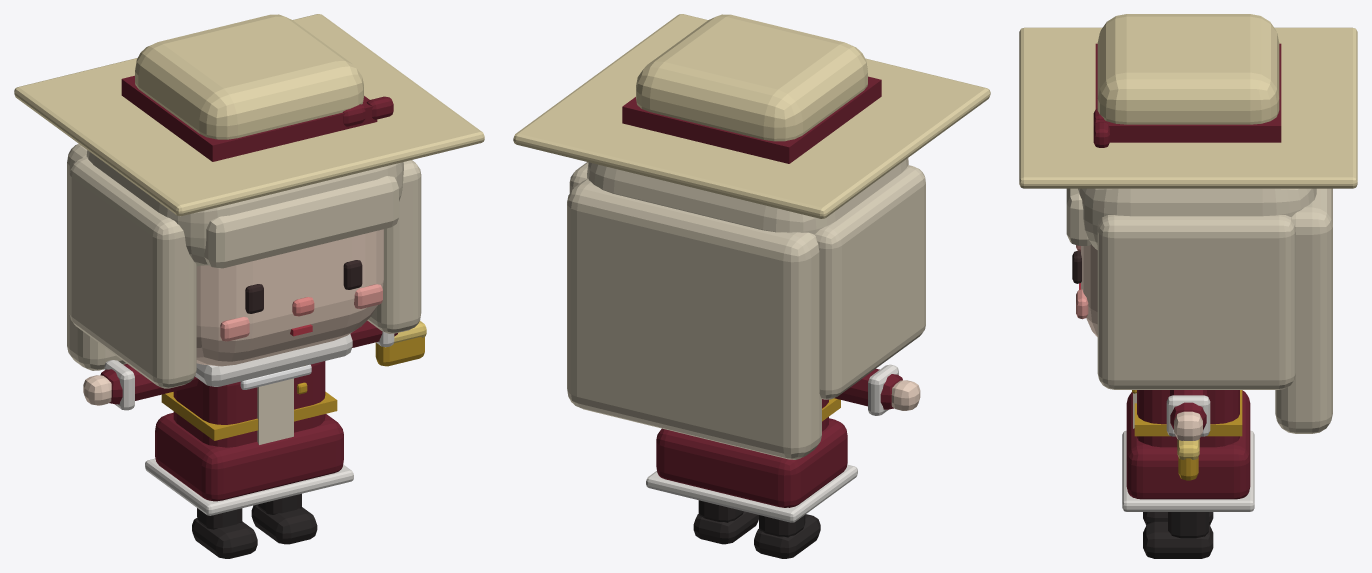
The model's file is CHAR_Customer_vip_ladyhat_.fbx.
3 views of the same model, side by side, from view 1: azimuth 30°, elevation 25°; view 2: azimuth 150°, elevation 25°; view 3: azimuth 270°, elevation 25° (orthographic). The views are drawn at different scales.
Parts seen in each view (by area): view 1: CHAR_Customer_vip_ladyhat; view 2: CHAR_Customer_vip_ladyhat; view 3: CHAR_Customer_vip_ladyhat.
Boxes of the visible parts, <box> form: CHAR_Customer_vip_ladyhat: <box>14,14,484,558</box>; CHAR_Customer_vip_ladyhat: <box>513,14,990,558</box>; CHAR_Customer_vip_ladyhat: <box>1019,14,1357,558</box>.
Bounding box in the file's own units: 0.0962 × 0.132 × 0.082.
